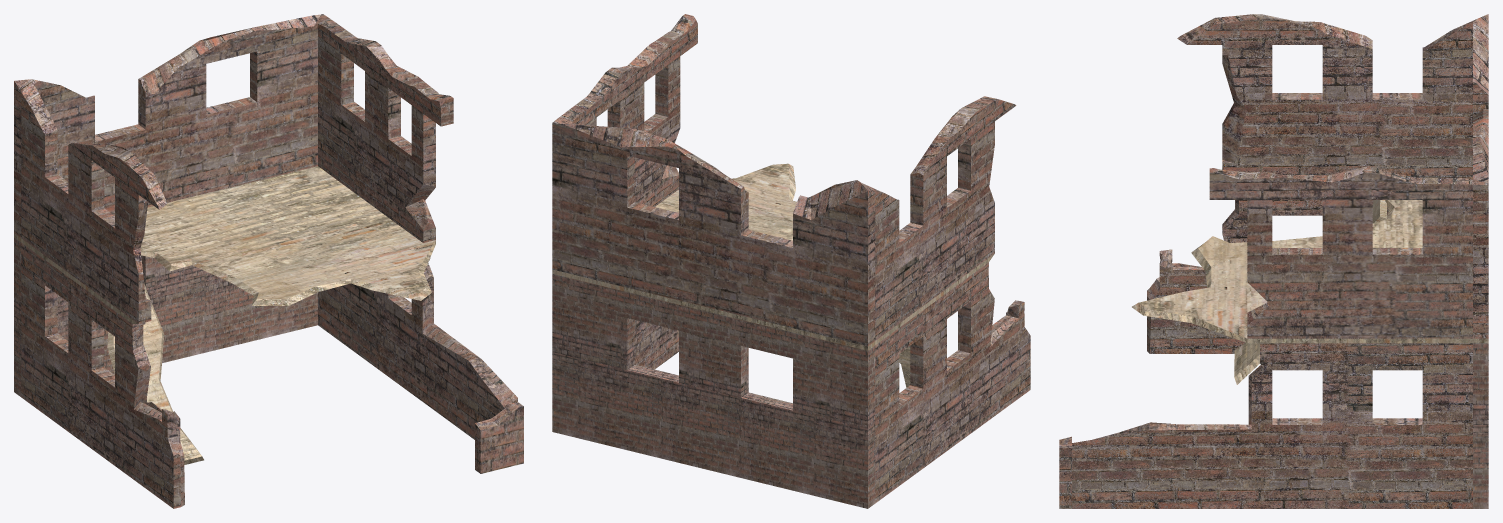
The model's file is nha3.fbx.
3 views of the same model, side by side, from view 1: azimuth 30°, elevation 25°; view 2: azimuth 150°, elevation 25°; view 3: azimuth 270°, elevation 25° (orthographic). The views are drawn at different scales.
Visible parts, largest first — view 1: Part1.001, Part1, Part1.004, Part1.003, Part1.005, Part1.006, Part1.002, Part1.007; view 2: Part1.002, Part1.001, Part1.004, Part1.003, Part1.005, Part1, Part1.006; view 3: Part1.006, Part1.005, Part1.003, Part1, Part1.004, Part1.001, Part1.002, Part1.007.
Part boxes in pixels (bbox=[...]): Part1.001: bbox=[14, 14, 329, 237]; Part1: bbox=[14, 166, 435, 323]; Part1.004: bbox=[21, 243, 184, 508]; Part1.003: bbox=[21, 84, 167, 323]; Part1.005: bbox=[318, 19, 453, 242]; Part1.006: bbox=[318, 258, 523, 473]; Part1.002: bbox=[14, 237, 317, 396]; Part1.007: bbox=[107, 283, 203, 464]; Part1.002: bbox=[552, 274, 875, 508]; Part1.001: bbox=[552, 117, 875, 346]; Part1.004: bbox=[875, 262, 1030, 503]; Part1.003: bbox=[866, 96, 1016, 340]; Part1.005: bbox=[560, 14, 697, 206]; Part1: bbox=[552, 163, 994, 350]; Part1.006: bbox=[634, 320, 678, 369]; Part1.006: bbox=[1059, 343, 1472, 508]; Part1.005: bbox=[1209, 166, 1472, 338]; Part1.003: bbox=[1177, 14, 1472, 179]; Part1: bbox=[1132, 200, 1488, 343]; Part1.004: bbox=[1147, 200, 1388, 353]; Part1.001: bbox=[1473, 14, 1488, 338]; Part1.002: bbox=[1473, 343, 1488, 508]; Part1.007: bbox=[1234, 200, 1386, 384].
Bounding box in the file's own units: 458 × 444 × 514.
2 materials, 2 textured.
